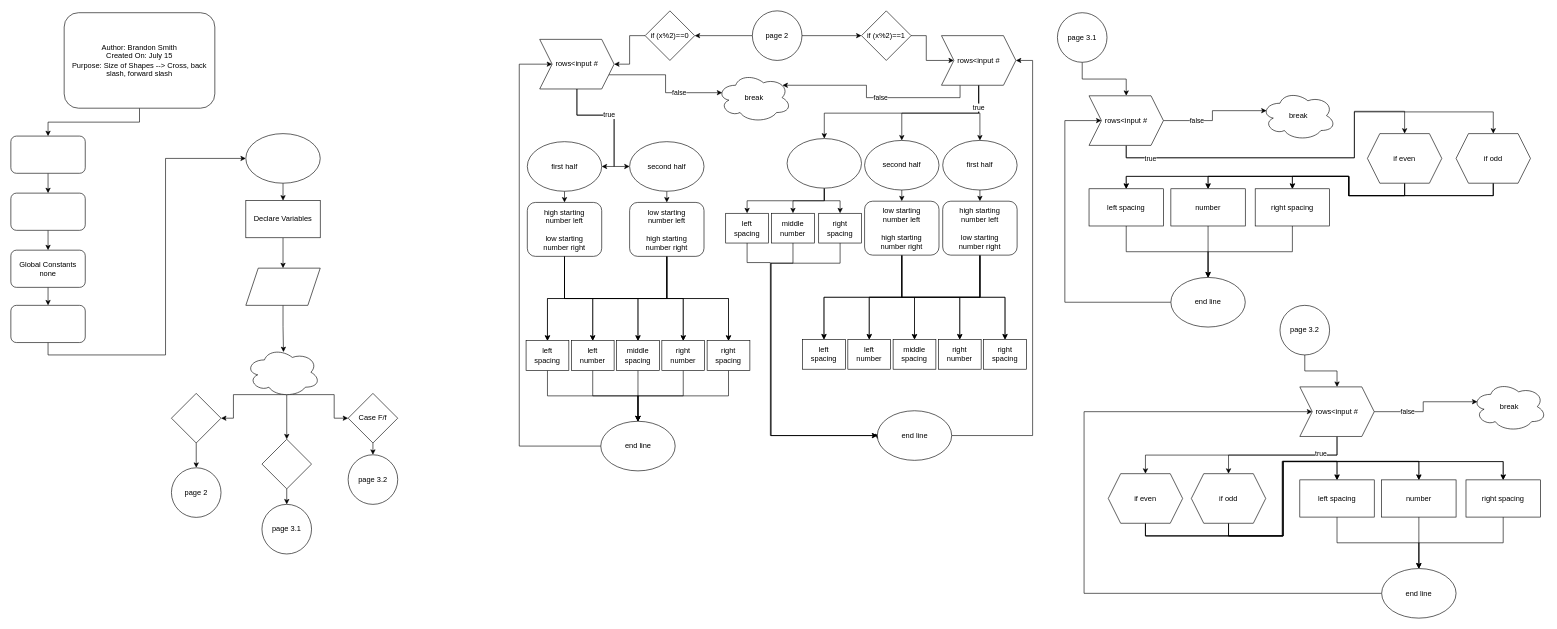
Image size: 1557x629. Some labels were removed from this diagram. The box of each missing label's shape, as (x1, y1, x2, y2) in pixels:
Case B/b: (261, 439, 312, 489)
Case X/x: (171, 393, 221, 443)
Function Prototypes none: (10, 305, 85, 343)
main: (245, 133, 320, 183)
middle: (786, 138, 861, 188)
Prompt and Input variables: (245, 268, 320, 305)
Switch: (245, 347, 320, 397)
System Libraries I/O Stream Standard Namespace: (10, 135, 85, 173)
User Libraries none: (10, 193, 85, 230)
